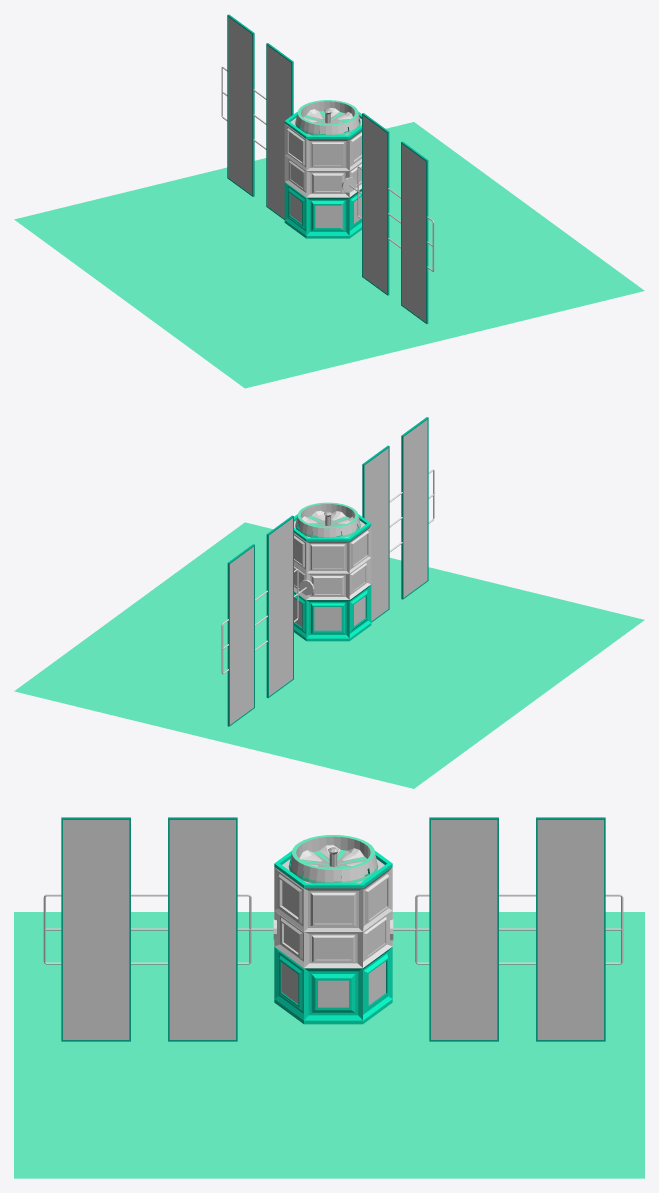
Rendered from satellite_1_2_green.fbx.
3 renders of one model, top to bottom at view 1: azimuth 30°, elevation 25°; view 2: azimuth 150°, elevation 25°; view 3: azimuth 270°, elevation 25°, orthographic. The views are drawn at different scales.
Visible parts, largest first — view 1: Plane, pCube7, Cylinder.020, Cylinder.021; view 2: Plane, pCube7, Cylinder.020, Cylinder.021; view 3: Plane, pCube7, Cylinder.020, Cylinder.021.
Part boxes in pixels (box(x1,y1,x2,y2)): Plane: box(14, 122, 644, 388); pCube7: box(221, 14, 434, 323); Cylinder.020: box(284, 111, 361, 238); Cylinder.021: box(295, 100, 360, 135); Plane: box(14, 522, 644, 788); pCube7: box(221, 417, 434, 726); Cylinder.020: box(294, 514, 371, 641); Cylinder.021: box(295, 502, 360, 537); Plane: box(14, 912, 644, 1178); pCube7: box(43, 817, 623, 1041); Cylinder.020: box(274, 850, 392, 1024); Cylinder.021: box(288, 835, 378, 883).
Bounding box in the file's own units: 1000 × 398 × 1000.
